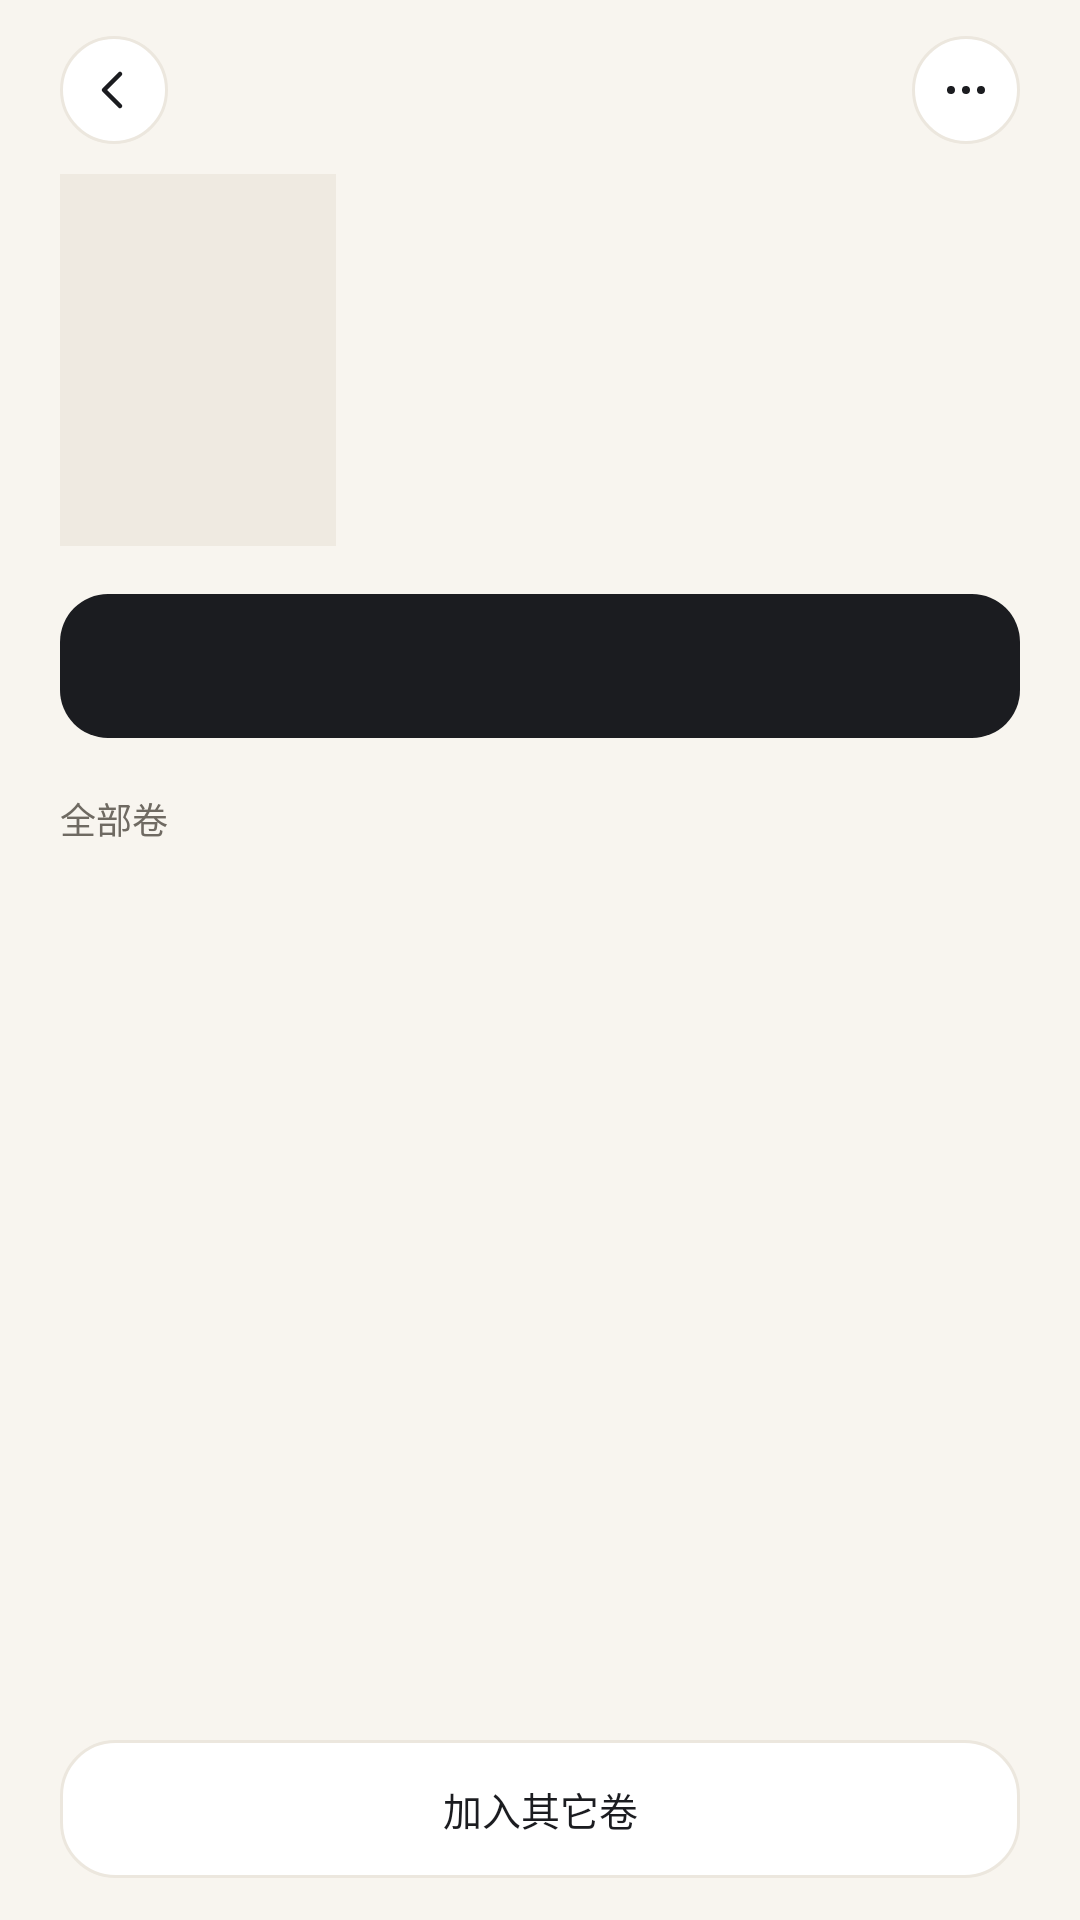

Icons on this 1080px×1920px Android screen, each with the point to tap as (x=x, y=y):
系列操作: (x=966, y=90)
返回: (x=114, y=90)
